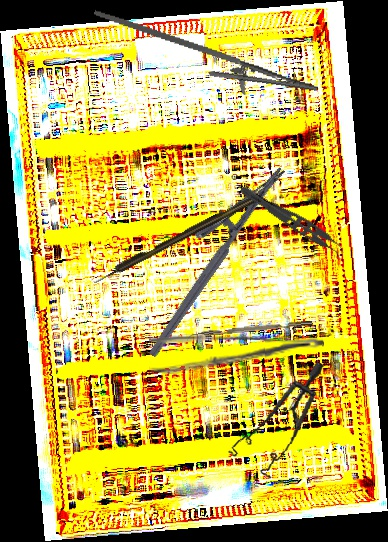Chopper: (185, 320, 314, 343)
Dressing Forceps: (148, 333, 325, 377)
Hook Surgical: (91, 192, 262, 286)
Needle Holder: (122, 148, 287, 359), (84, 9, 324, 110)
Speculum: (224, 350, 325, 485)
Tissue Forceps: (233, 183, 350, 262)
